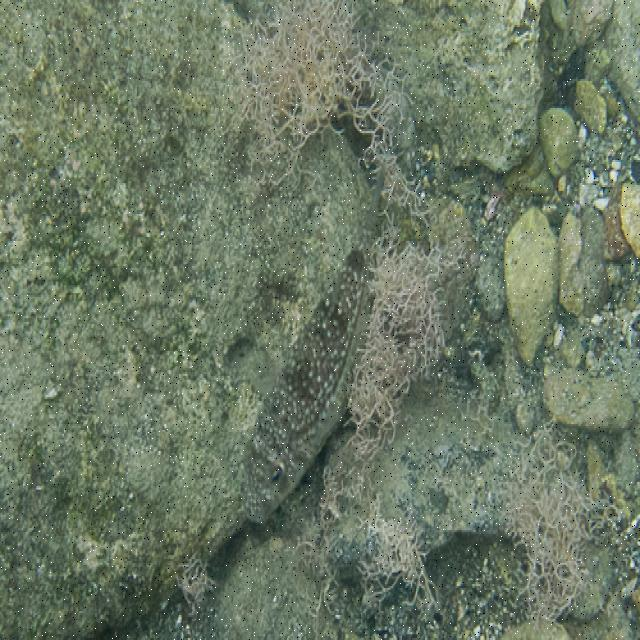Balik: (242, 249, 367, 522)
